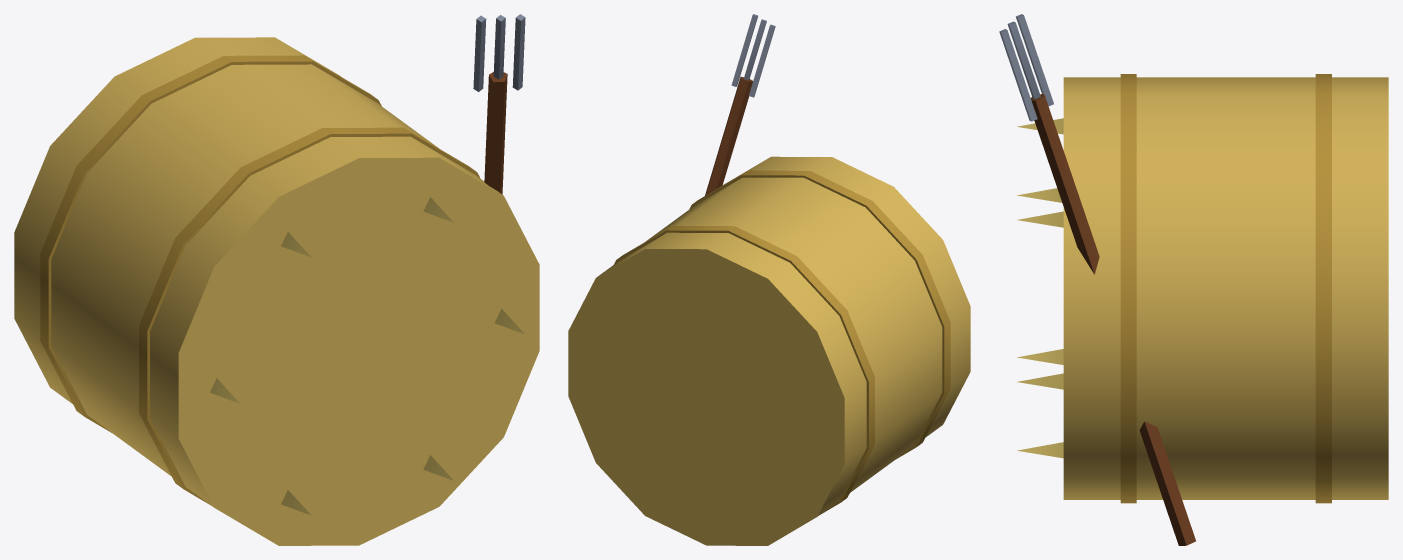
The model's file is b_heu.glb.
3 views of the same model, side by side, from view 1: azimuth 30°, elevation 25°; view 2: azimuth 150°, elevation 25°; view 3: azimuth 270°, elevation 25° (orthographic). The views are drawn at different scales.
Visible parts, largest first — view 1: body; view 2: body; view 3: body.
Boxes of the visible parts, x1,y1,x2,y2 form: body: (14, 14, 539, 545); body: (568, 14, 970, 545); body: (999, 14, 1388, 545).
Bounding box in the file's own units: 1.33 × 1.75 × 1.2.
